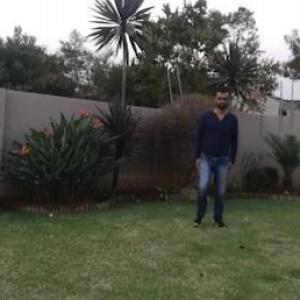follow: (193, 81, 236, 227)
